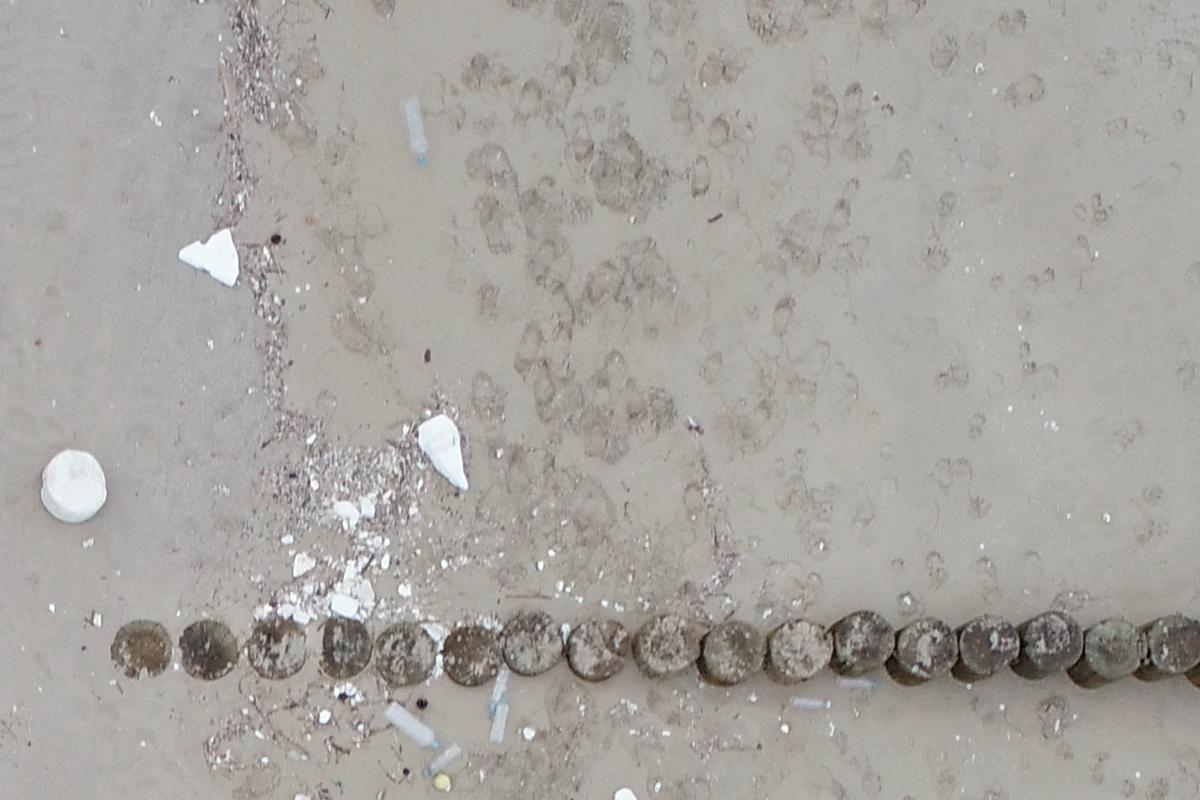(11)PET_Bottle: (375, 701, 441, 752), (404, 101, 429, 164)
(11)Styrofoam_Piece: (179, 223, 243, 293), (414, 413, 473, 485)
(21)Styrofoam_Piece: (35, 447, 105, 523), (614, 781, 640, 800)
\: (487, 666, 511, 716), (488, 693, 507, 746), (785, 694, 831, 711), (834, 675, 884, 690)
